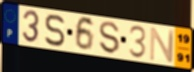3: (20, 9, 41, 46), (128, 25, 148, 60)
6: (73, 15, 96, 54)
N: (148, 26, 176, 64)
S: (98, 21, 121, 56), (44, 13, 66, 48)
